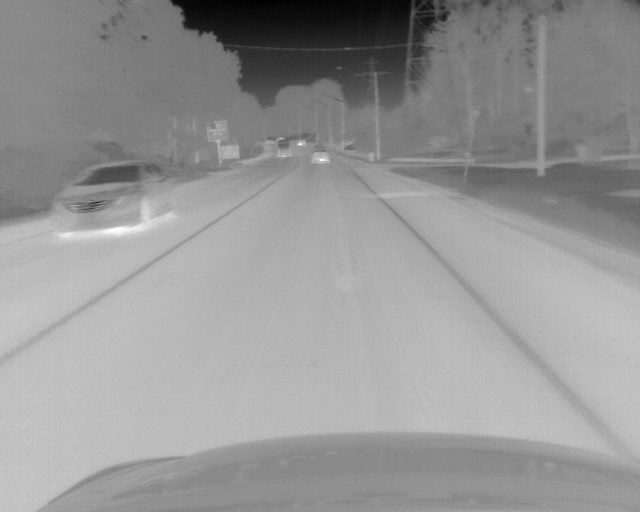car: (50, 159, 175, 235), (310, 149, 329, 166), (277, 137, 291, 160), (295, 138, 307, 147)
